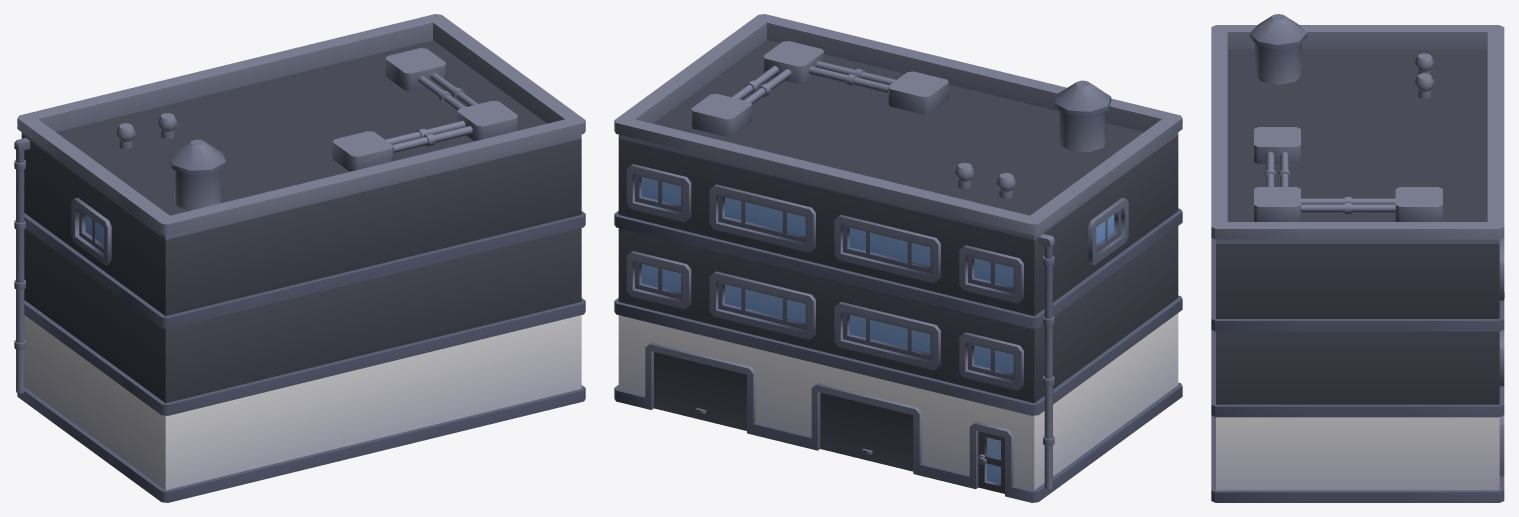
Rendered from building-a_lev1.glb.
3 renders of one model, left to right at view 1: azimuth 30°, elevation 25°; view 2: azimuth 150°, elevation 25°; view 3: azimuth 270°, elevation 25°, orthographic.
Parts seen in each view (by area): view 1: building-a_lev1; view 2: building-a_lev1; view 3: building-a_lev1.
Part boxes in pixels (x1,y1,x2,y2): building-a_lev1: (14, 14, 585, 502); building-a_lev1: (614, 14, 1182, 502); building-a_lev1: (1211, 14, 1504, 502).
Size of the model in its own units: 2.08 by 1.47 by 1.24.
Materials: 1 (1 with a texture image).
